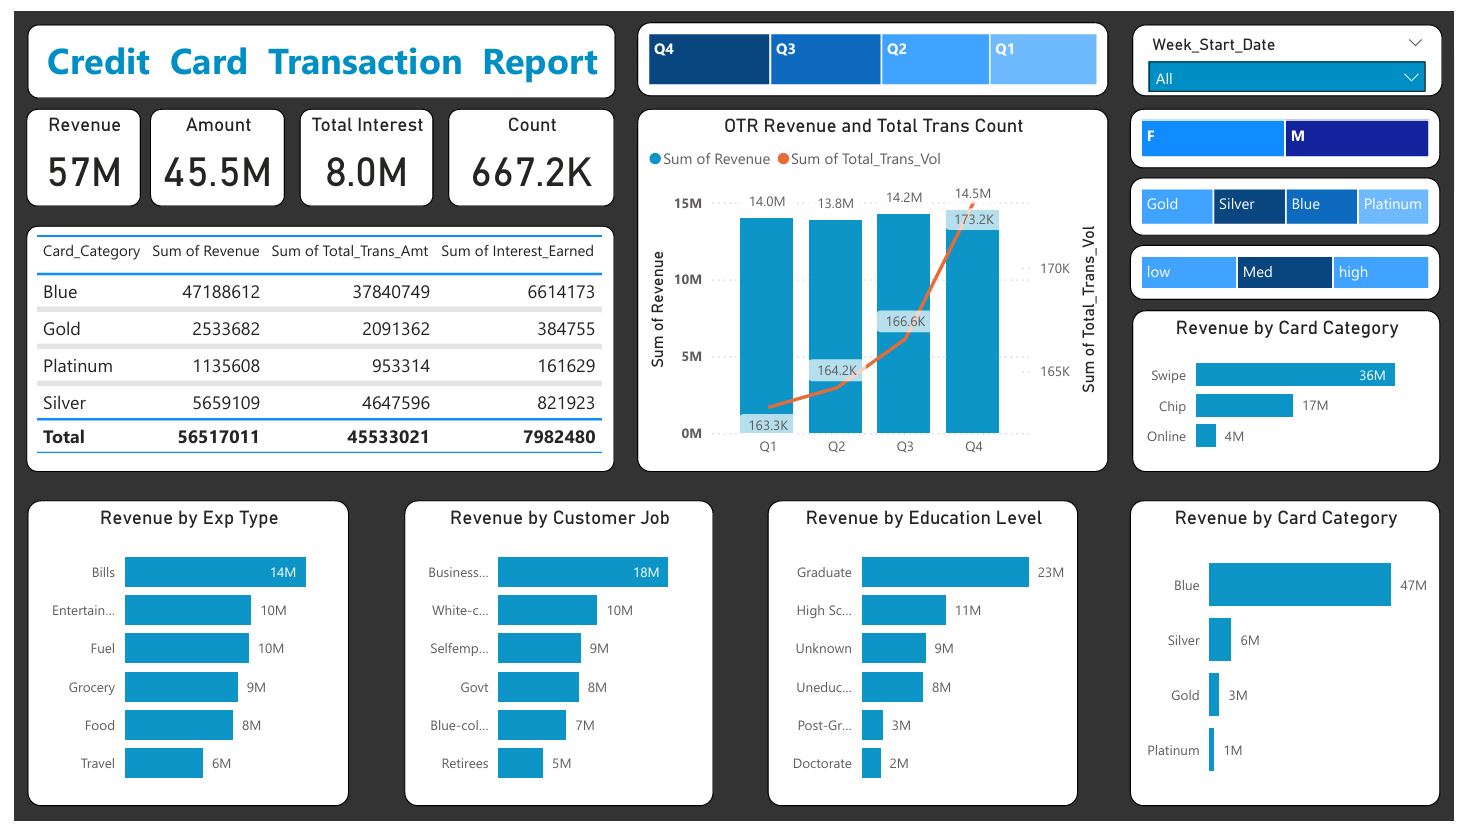

The page's visual inventory and layout, read from the dashboard file:
{"tool":"powerbi","page":{"name":"Credit Card Transaction","canvas":[1280,720],"ordinal":1},"visuals":[{"type":"textbox","box":[11,11,522.8,65.9],"z":0},{"type":"lineStackedColumnComboChart","title":"OTR Revenue and Total Trans Count","fields":{"Category":["credit_card cc_details.Qtr"],"Y":["Sum(credit_card cc_details.Revenue)"],"Y2":["Sum(credit_card cc_details.Total_Trans_Vol)"]},"box":[553.4,85.9,418.4,322.7],"z":1000},{"type":"barChart","title":"Revenue by Exp Type","fields":{"Category":["credit_card cc_details.Exp Type"],"Y":["Sum(credit_card cc_details.Revenue)"]},"box":[11,434.4,285.9,271.2],"z":2000},{"type":"barChart","title":"Revenue by Customer Job","fields":{"Category":["credit_card cust_details.Customer_Job"],"Y":["Sum(credit_card cc_details.Revenue)"]},"box":[346,434.4,274.8,271.2],"z":3000},{"type":"barChart","title":"Revenue by Education Level","fields":{"Category":["credit_card cust_details.Education_Level"],"Y":["Sum(credit_card cc_details.Revenue)"]},"box":[668.7,434.4,276.1,271.2],"z":4000},{"type":"barChart","title":"Revenue by Card Category","fields":{"Category":["credit_card cc_details.Card_Category"],"Y":["Sum(credit_card cc_details.Revenue)"]},"box":[991.4,434.4,276.1,271.2],"z":5000},{"type":"barChart","title":"Revenue by Card Category","fields":{"Category":["credit_card cc_details.Use Chip"],"Y":["Sum(credit_card cc_details.Revenue)"]},"box":[992.6,265,274.8,143.6],"z":6000},{"type":"tableEx","fields":{"Values":["credit_card cc_details.Card_Category","Sum(credit_card cc_details.Revenue)","Sum(credit_card cc_details.Total_Trans_Amt)","Sum(credit_card cc_details.Interest_Earned)"]},"box":[9.8,190.2,522.7,218.4],"z":7000},{"type":"card","title":"Revenue","fields":{"Values":["Sum(credit_card cc_details.Revenue)"]},"box":[9.8,85.9,101.8,87.1],"z":8000},{"type":"card","title":"Amount","fields":{"Values":["Sum(credit_card cc_details.Total_Trans_Amt)"]},"box":[120.2,85.9,120.2,87.1],"z":9000},{"type":"card","title":"Total Interest","fields":{"Values":["Sum(credit_card cc_details.Interest_Earned)"]},"box":[252.8,85.9,119,87.1],"z":10000},{"type":"card","title":"Count","fields":{"Values":["Sum(credit_card cc_details.Total_Trans_Vol)"]},"box":[385.3,85.9,147.2,87.1],"z":11000},{"type":"slicer","fields":{"Values":["credit_card cc_details.Week_Start_Date"]},"box":[992.6,11,276.1,63.8],"z":12000},{"type":"treemap","fields":{"Group":["credit_card cc_details.Qtr"],"Values":["Avg(credit_card cust_details.ï»¿Client_Num)"]},"box":[553.4,8.6,418.4,66.3],"z":13000},{"type":"treemap","fields":{"Group":["credit_card cc_details.Card_Category"],"Values":["Avg(credit_card cust_details.ï»¿Client_Num)"]},"box":[991.4,147.2,276.1,51.5],"z":14000},{"type":"treemap","fields":{"Group":["credit_card cust_details.Gender"],"Values":["Avg(credit_card cust_details.ï»¿Client_Num)"]},"box":[991.4,85.9,276.1,52.8],"z":15000},{"type":"treemap","fields":{"Group":["credit_card cust_details.IncomeGroup"],"Values":["Avg(credit_card cust_details.ï»¿Client_Num)"]},"box":[991.4,207.4,276.1,49.1],"z":16000}]}

Visuals, with their boxes in screenshot pixels (x1, y1, x2, y2), scaled from the page's 1280x720 canvas onto the 1462x833 screenshot:
textbox: {"x1": 13, "y1": 13, "x2": 610, "y2": 89}
"OTR Revenue and Total Trans Count" lineStackedColumnComboChart: {"x1": 632, "y1": 99, "x2": 1110, "y2": 473}
"Revenue by Exp Type" barChart: {"x1": 13, "y1": 503, "x2": 339, "y2": 816}
"Revenue by Customer Job" barChart: {"x1": 395, "y1": 503, "x2": 709, "y2": 816}
"Revenue by Education Level" barChart: {"x1": 764, "y1": 503, "x2": 1079, "y2": 816}
"Revenue by Card Category" barChart: {"x1": 1132, "y1": 503, "x2": 1448, "y2": 816}
"Revenue by Card Category" barChart: {"x1": 1134, "y1": 307, "x2": 1448, "y2": 473}
tableEx - credit_card cc_details.Card_Category x Sum(credit_card cc_details.Revenue): {"x1": 11, "y1": 220, "x2": 608, "y2": 473}
"Revenue" card: {"x1": 11, "y1": 99, "x2": 127, "y2": 200}
"Amount" card: {"x1": 137, "y1": 99, "x2": 275, "y2": 200}
"Total Interest" card: {"x1": 289, "y1": 99, "x2": 425, "y2": 200}
"Count" card: {"x1": 440, "y1": 99, "x2": 608, "y2": 200}
slicer - credit_card cc_details.Week_Start_Date: {"x1": 1134, "y1": 13, "x2": 1449, "y2": 87}
treemap - credit_card cc_details.Qtr x Avg(credit_card cust_details.ï»¿Client_Num): {"x1": 632, "y1": 10, "x2": 1110, "y2": 87}
treemap - credit_card cc_details.Card_Category x Avg(credit_card cust_details.ï»¿Client_Num): {"x1": 1132, "y1": 170, "x2": 1448, "y2": 230}
treemap - credit_card cust_details.Gender x Avg(credit_card cust_details.ï»¿Client_Num): {"x1": 1132, "y1": 99, "x2": 1448, "y2": 160}
treemap - credit_card cust_details.IncomeGroup x Avg(credit_card cust_details.ï»¿Client_Num): {"x1": 1132, "y1": 240, "x2": 1448, "y2": 297}
